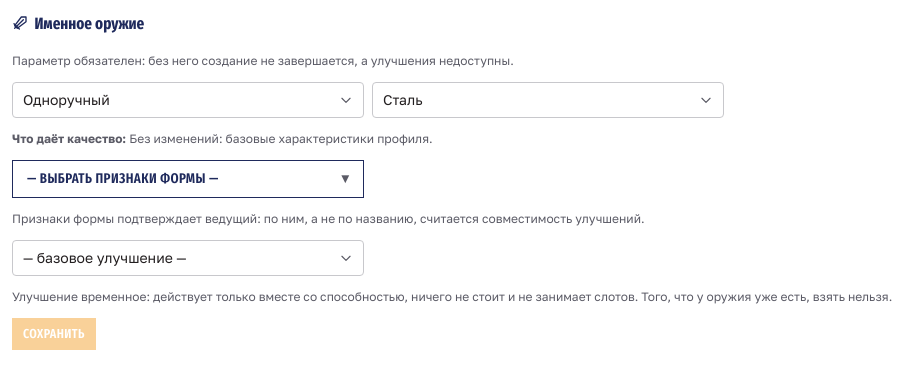
Test: HeroicParameterSection (ROT-HA-02) › показывает свойства выбранного качества изготовления
Expected: the text "Без изменений: базовые характеристики профиля" is shown, [129,131,433,146]
Press the mouse on the dropdown named "Качество изготовления" at (403,100), box [372,82,724,118]
Click the dropdown named "Качество изготовления" at (403,100), box [372,82,724,118]
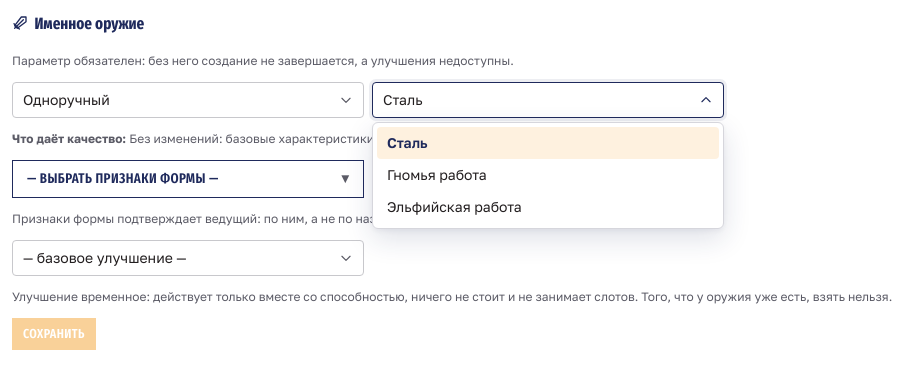
Click the option "Гномья работа" at (437,175), box [387,166,487,183]
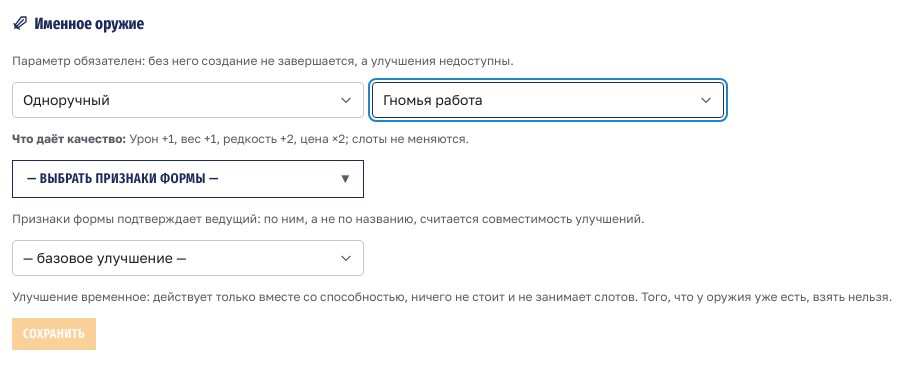
Result: the text "Урон +1, вес +1, редкость +2" is shown at [129,131,469,146]
